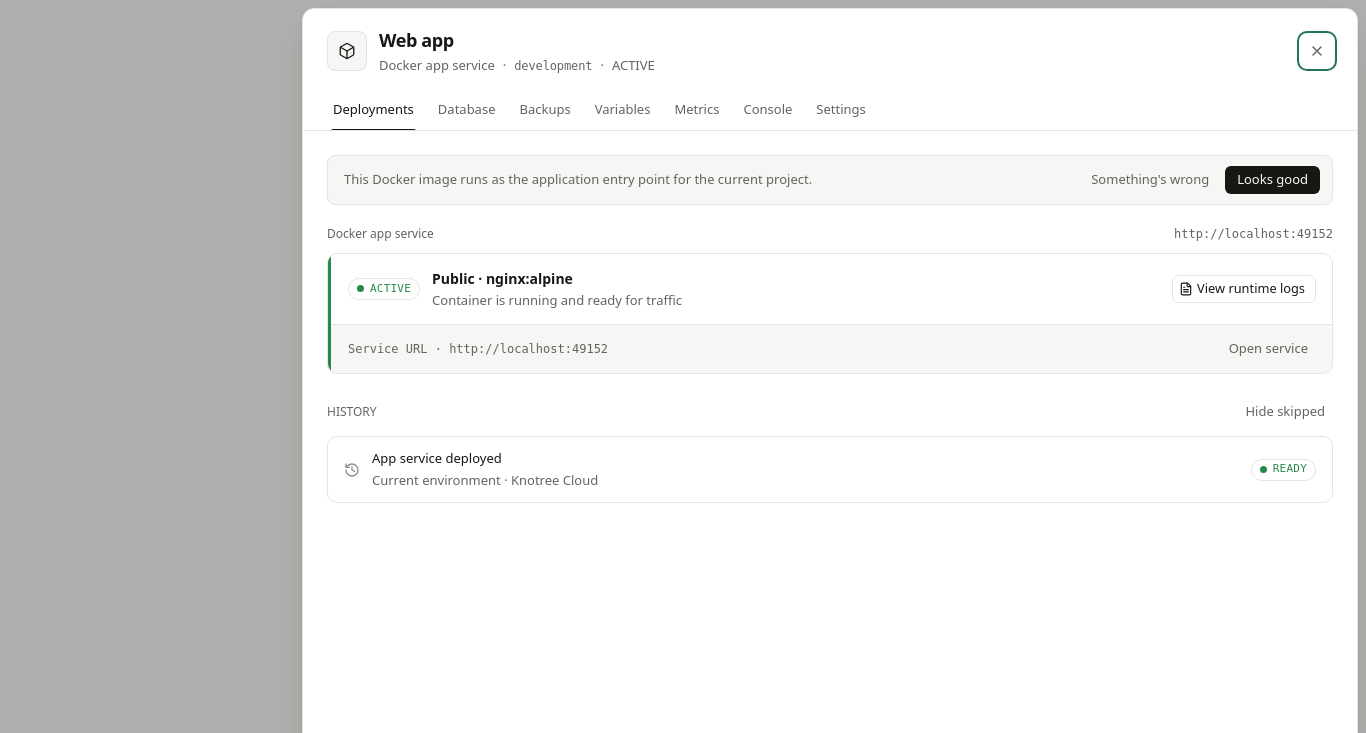
Scenario: ResourceWorkspace database pane › renders live app service runtime metrics
Click the tab "Metrics" at (697, 110), box 664,90 -> 729,130
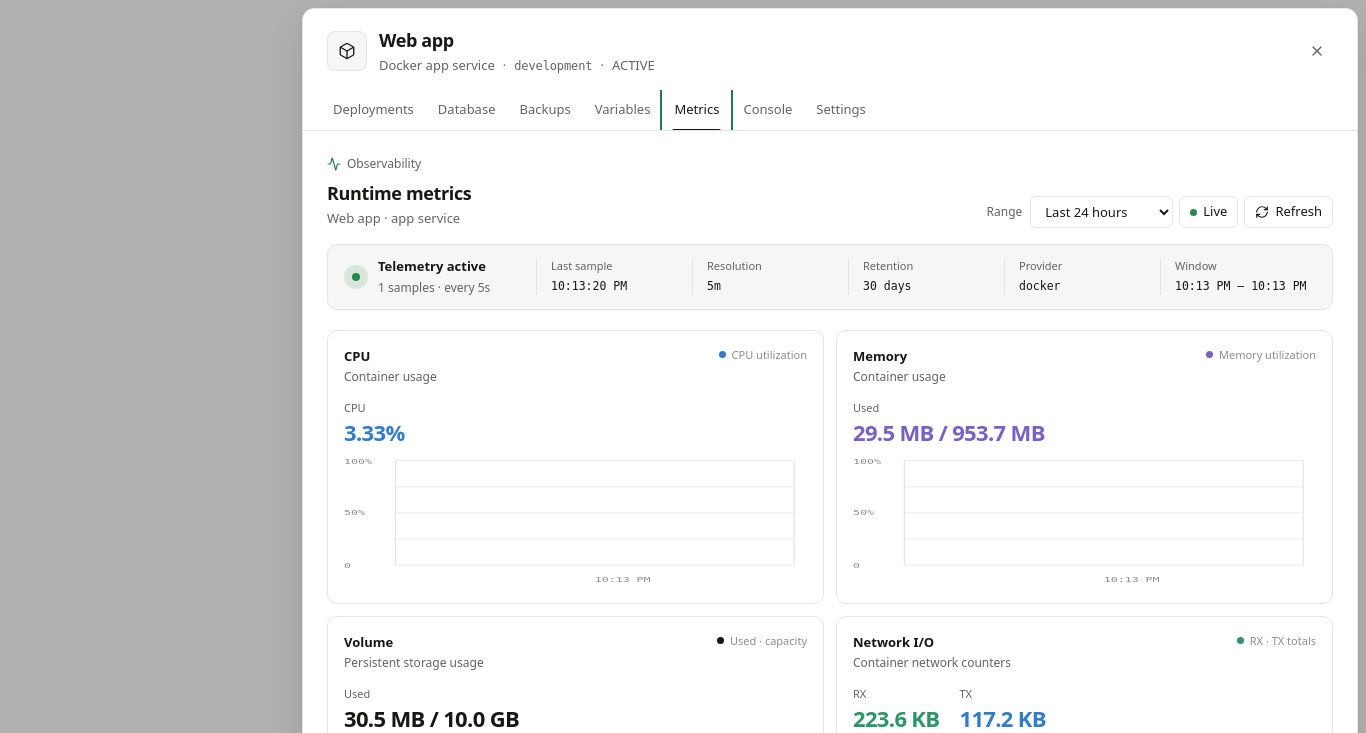
Now the text "3.33%" is shown, box 344,416 -> 404,446
Now the heading "Network I/O" is shown, box 853,632 -> 934,650
Now the text "Telemetry active" is shown, box 378,257 -> 490,276
Click the button "Live" at (1209, 212), box 1179,196 -> 1238,228
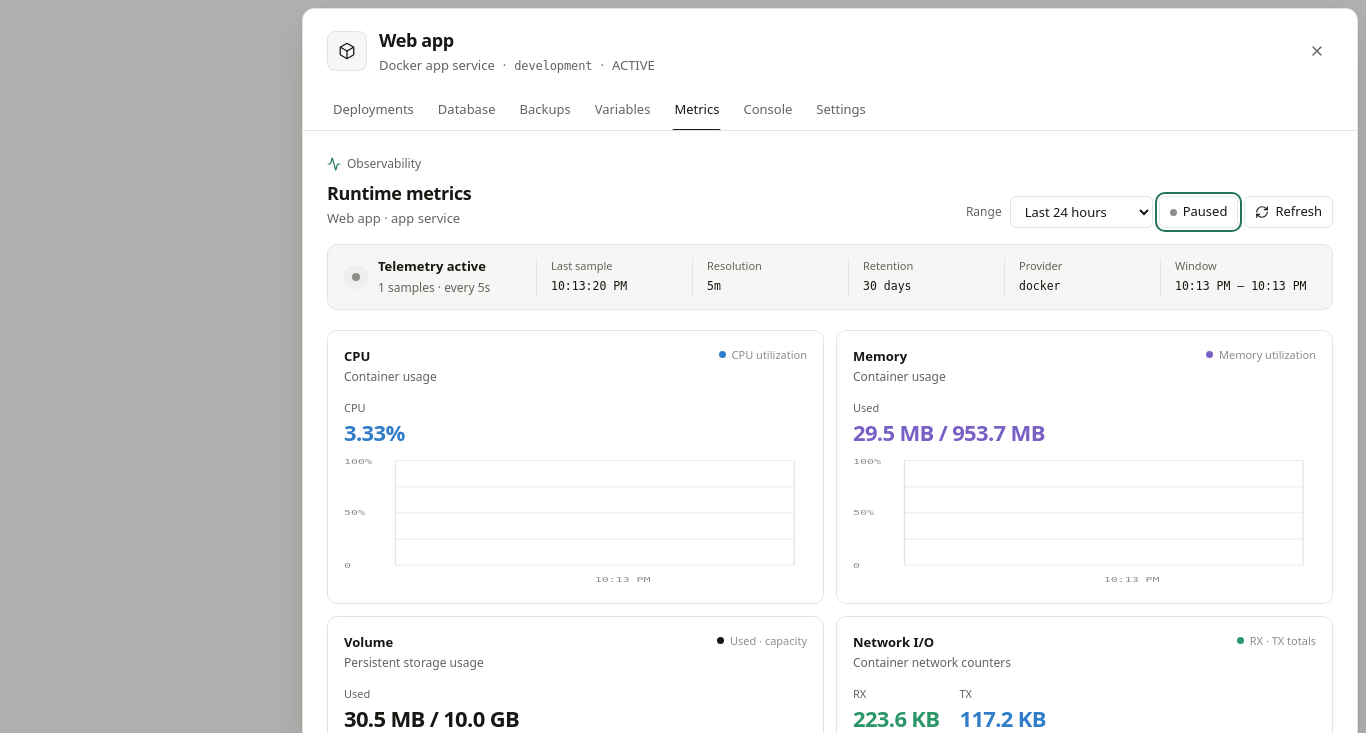
Now the button "Paused" is shown, box 1159,196 -> 1238,228
